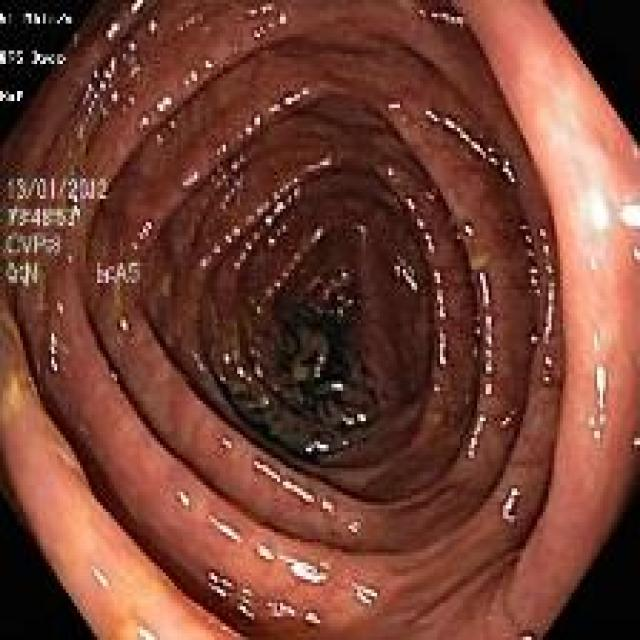ulcerative-colitis-grade-0-1: (0, 0, 565, 637)
